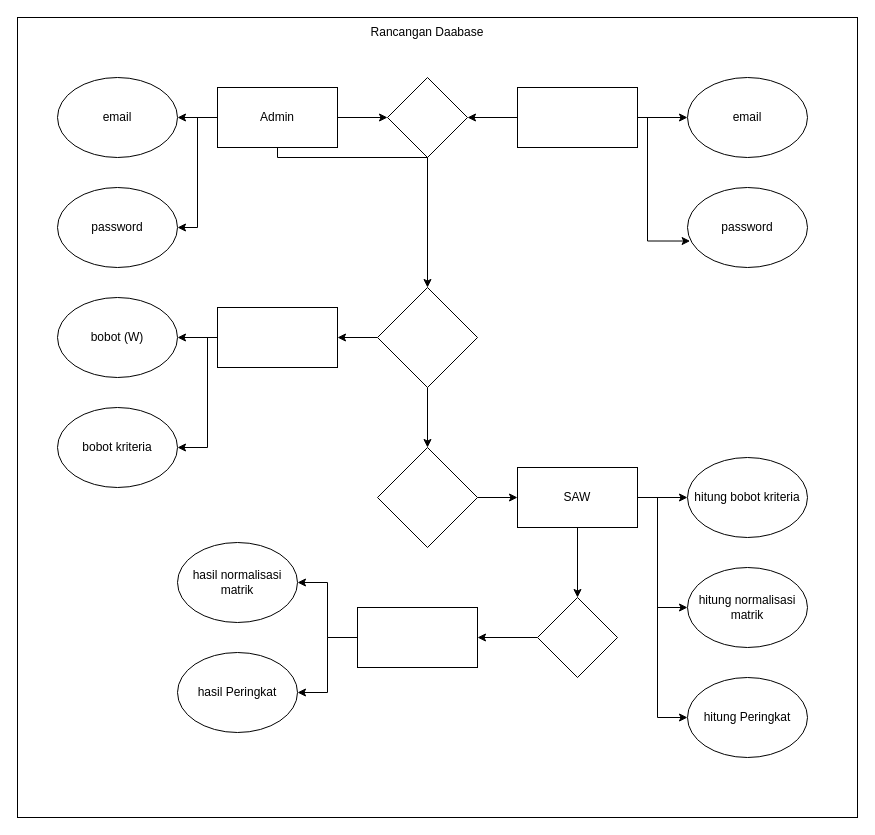
Image size: 875x835. Some labels were removed from this diagram. Each missing label, with the centre of its shape:
Analisa: (427,497)
Bobot: (277,337)
Developer: (577,117)
Hassil: (417,637)
memeperoleh: (577,637)
Menentukan Bobot: (427,337)
Mengimput: (427,117)
